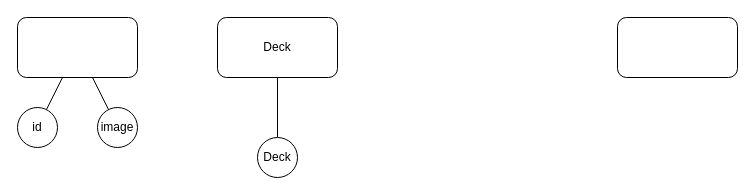
The diagram is 755 pixels wide and 195 high, and some of its shapes have lost their labels. The centre of each missing label's shape, as x and y in pixels:
"card" belongs at [77,47].
"GameManager" belongs at [677,47].
